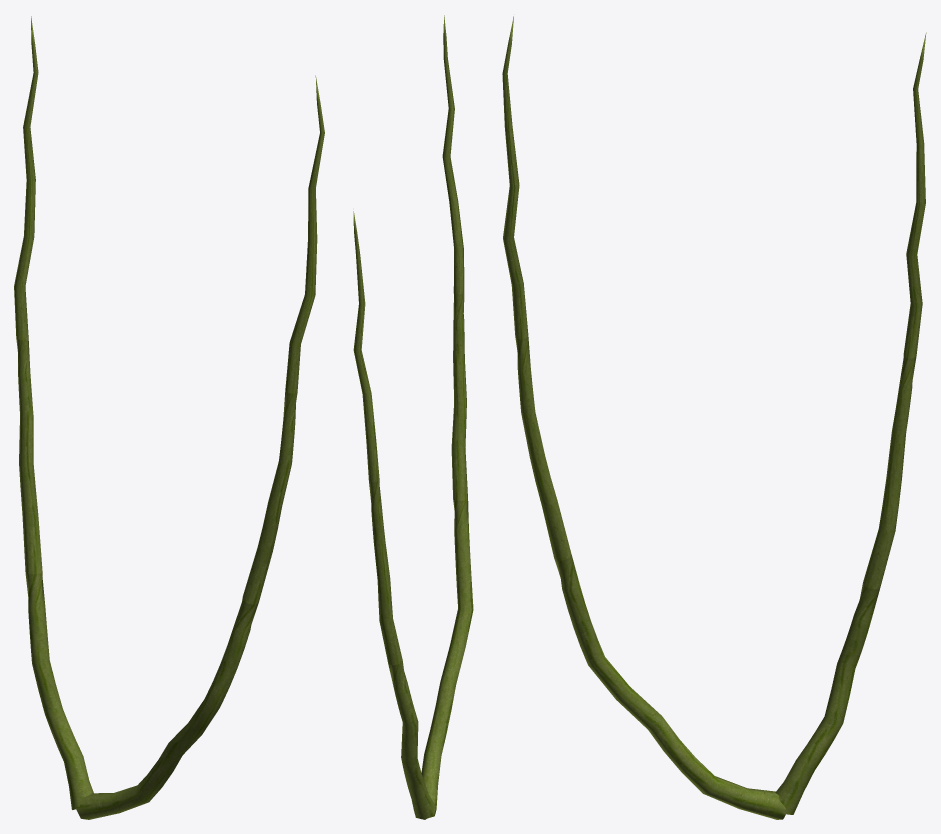
The model's file is VG07_1_stem.dae.
3 views of the same model, side by side, from view 1: azimuth 30°, elevation 25°; view 2: azimuth 150°, elevation 25°; view 3: azimuth 270°, elevation 25° (orthographic). The views are drawn at different scales.
Parts seen in each view (by area): view 1: VG07_003; view 2: VG07_003; view 3: VG07_003.
Part boxes in pixels (x1,y1,x2,y2): VG07_003: (14,16,324,819); VG07_003: (353,15,473,819); VG07_003: (502,16,926,819).
Size of the model in its own units: 2.28 by 6.06 by 13.54.
